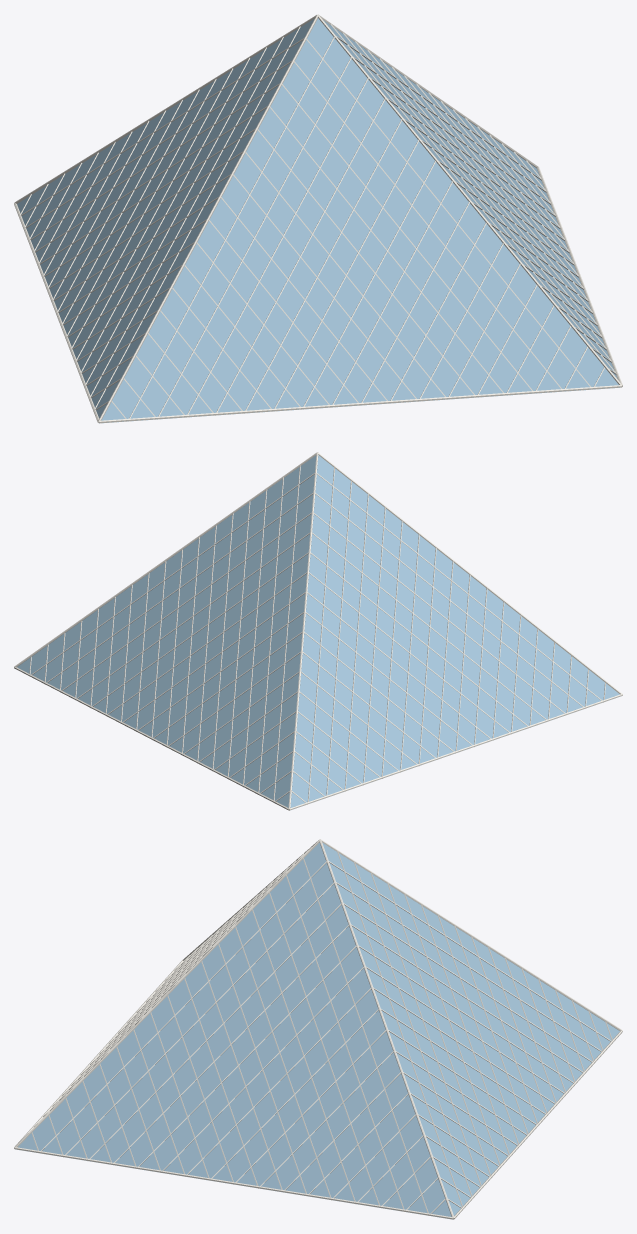
3 views of the same model, one above another, from view 1: azimuth 30°, elevation 25°; view 2: azimuth 150°, elevation 25°; view 3: azimuth 270°, elevation 25° (orthographic). The views are drawn at different scales.
Parts seen in each view (by area): view 1: roof, trim; view 2: roof, trim; view 3: roof, trim.
Part boxes in pixels (x1,y1,x2,y2): roof: [17, 18, 619, 423]; trim: [14, 14, 622, 423]; roof: [17, 455, 619, 807]; trim: [14, 452, 622, 810]; roof: [15, 843, 619, 1218]; trim: [14, 839, 622, 1219].
Bounding box in the file's own units: 47.89 × 21.72 × 47.66.
